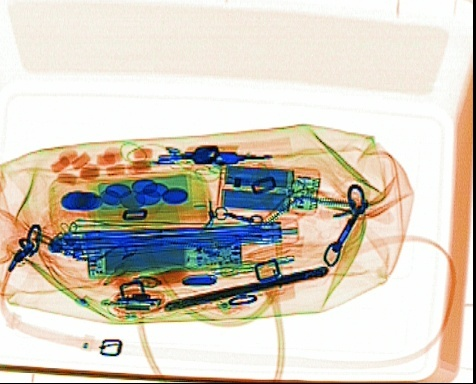powerbank: (215, 157, 324, 218)
